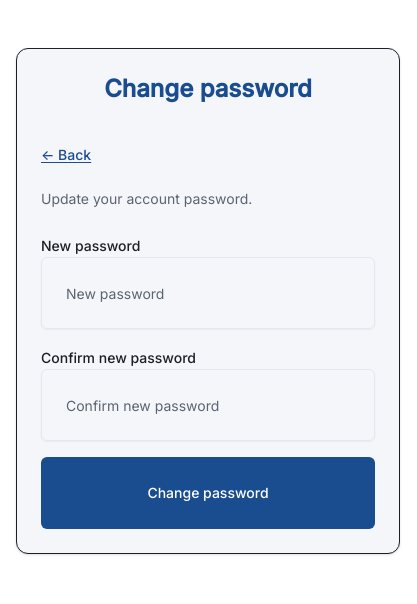
it: server WEAK_PASSWORD -> renders messageForCode(WEAK_PASSWORD)
Type "validpassword123" into the password field with placeholder "New password". click: x=208, y=293
box: [41, 257, 375, 329]
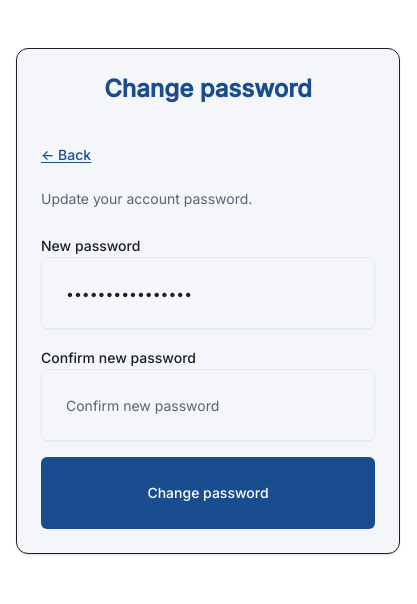
Type "validpassword123" into the password field with placeholder "Confirm new password". click: x=208, y=405
box: [41, 369, 375, 441]
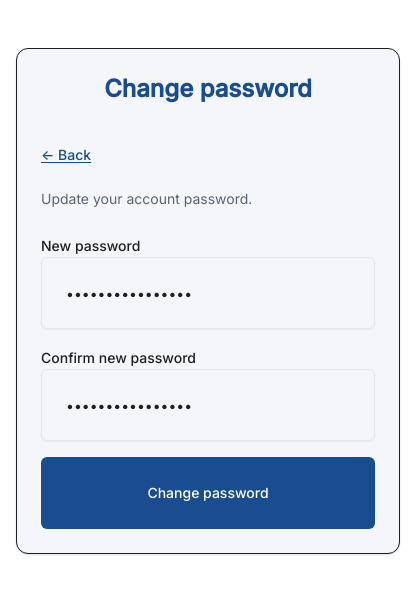
Click the button "Change password". click: x=208, y=493
box: [41, 457, 375, 529]
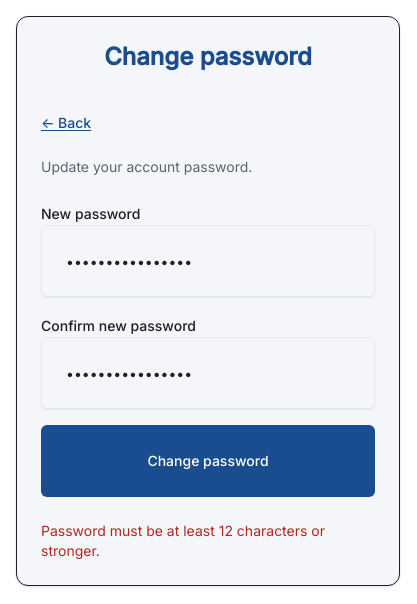
expect the text "Password must be at least 12 characters or stronger." is shown: met, box [41, 521, 375, 561]
